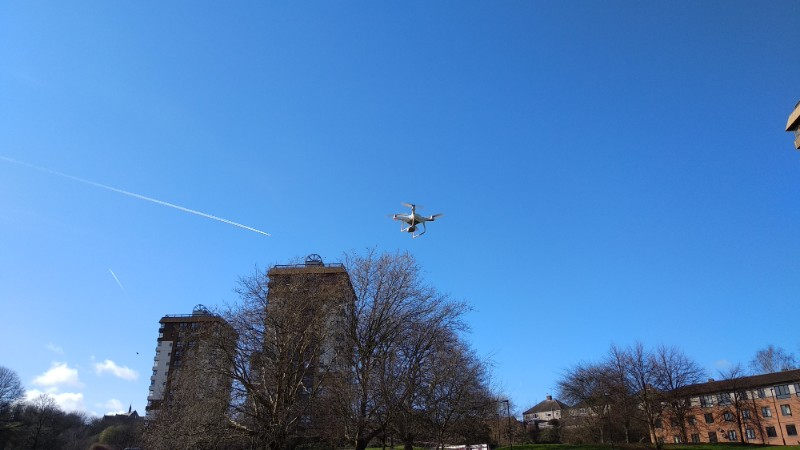drone: (386, 201, 441, 241)
